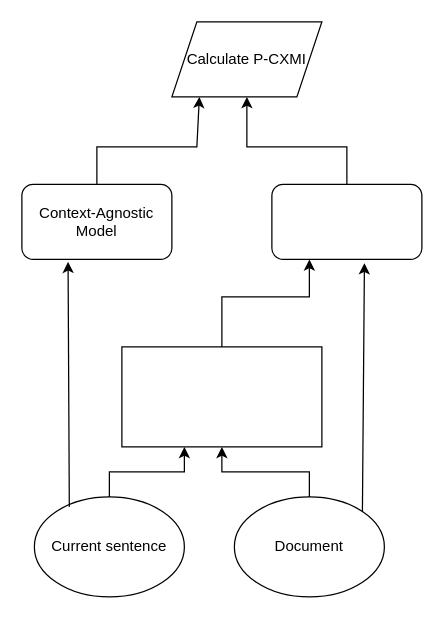
Image size: 444x619. Some labels were removed from this diagram. The shapes that lost their labels are listed below. From the top down, each one's centre as x and y in pixels, then its label:
[346,221]: Context-Aware Model
[221,396]: Context Summarizer (pre-trained - distilbart-cnn-12-6)
